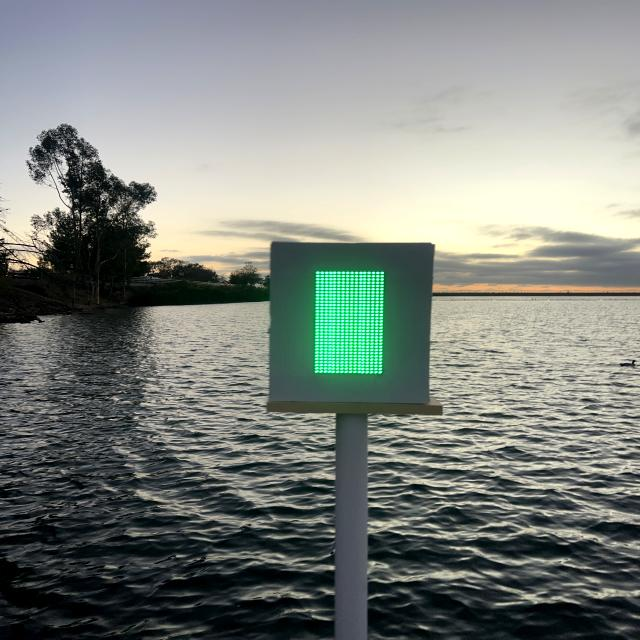led: (286, 254, 414, 392)
